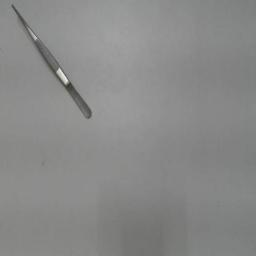Gillies Toothed Dissector: (6, 2, 98, 130)
